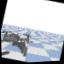drone: (1, 28, 33, 59)
